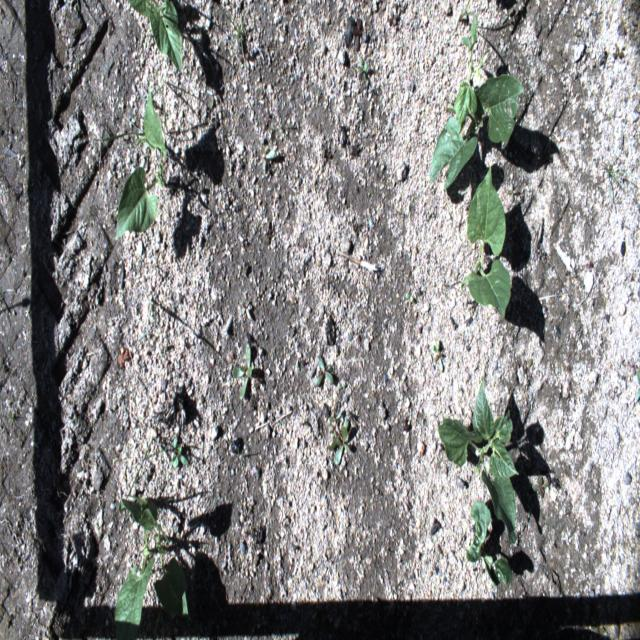crop: (438, 377, 519, 545), (430, 74, 524, 188), (114, 495, 188, 639), (460, 164, 511, 318), (115, 90, 167, 239), (126, 0, 182, 75), (466, 500, 512, 586), (454, 11, 488, 126)
weed: (122, 436, 165, 505), (600, 134, 632, 204), (96, 116, 156, 148), (221, 6, 245, 64), (231, 344, 254, 401), (449, 0, 477, 39), (328, 416, 350, 465), (138, 302, 155, 343), (314, 355, 334, 388), (350, 16, 368, 52), (171, 437, 190, 467), (151, 65, 166, 97), (532, 476, 550, 499), (262, 145, 275, 174), (160, 92, 168, 134), (240, 297, 252, 323), (230, 446, 249, 462), (590, 618, 605, 638), (500, 5, 515, 24), (114, 496, 128, 516), (358, 54, 367, 82), (263, 220, 273, 245), (506, 183, 518, 203), (434, 351, 444, 374), (387, 7, 398, 26), (151, 444, 167, 456), (634, 370, 640, 402), (629, 357, 638, 377), (392, 2, 405, 15), (613, 47, 624, 62), (6, 412, 16, 428), (329, 410, 342, 422), (524, 359, 532, 378), (404, 291, 413, 304), (585, 261, 594, 271), (431, 343, 440, 352), (608, 108, 616, 118), (337, 382, 346, 388), (317, 87, 321, 99)
